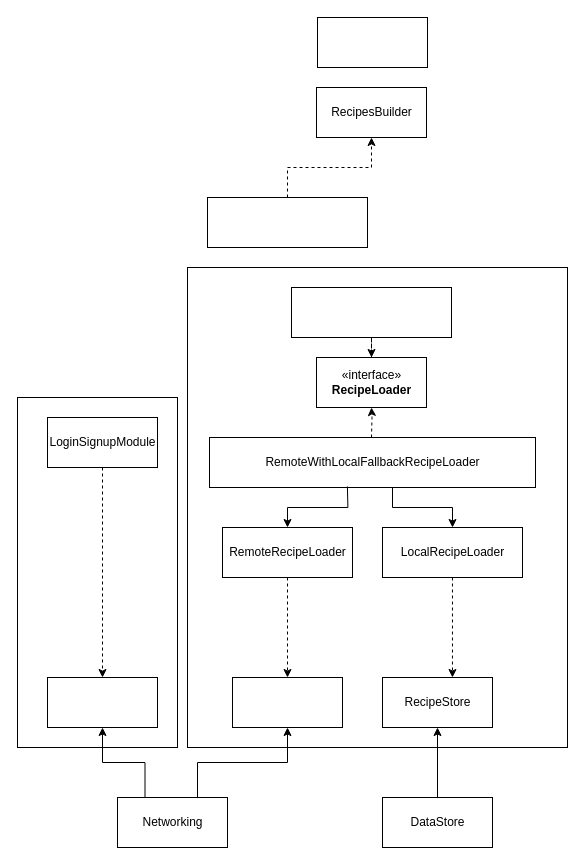
The diagram is 585 pixels wide and 865 high, and some of its shapes have lost their labels. The shapes that lost their labels are listed below. From the top down, each one's centre as x and y in pixels, then its label:
At (372,42): "Main".
At (287,222): "RecipesViewController".
At (371,312): "RecipesViewModel".
At (102,702): "UserApiService".
At (287,702): "CookingApiService".
